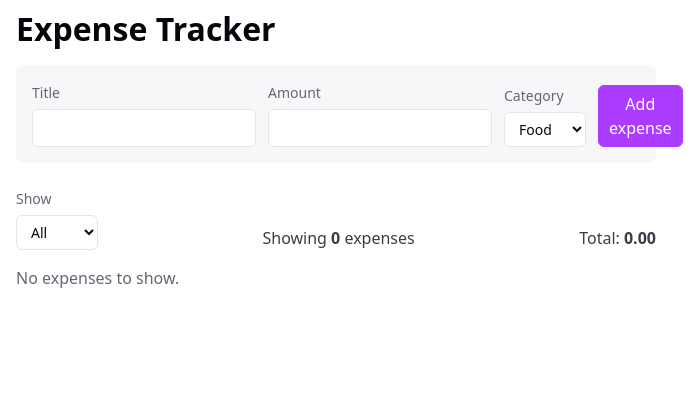
App › lists added expenses with a count and a 2-decimal total
The image size is (700, 397).
Type "Lunch" into the field labelled "Title" at (144,128), box [32,109,256,147]
Type "250" into the field labelled "Amount" at (380,128), box [268,109,492,147]
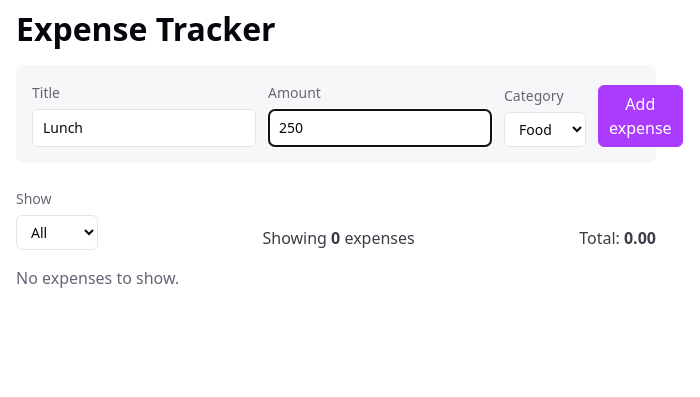
Select "Food" in the dropdown labelled "Category" at (545,130), box [504,112,586,147]
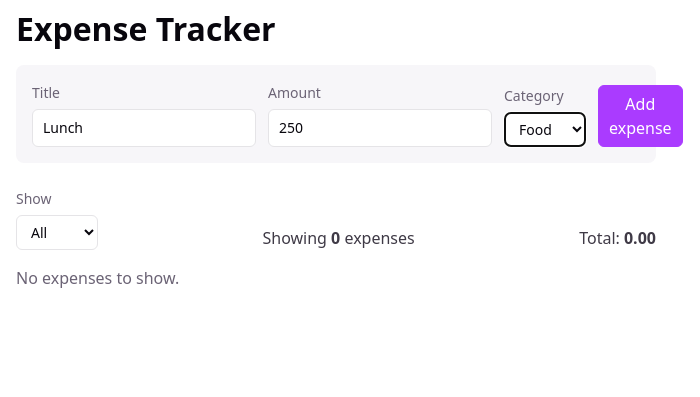
Click the button "Add expense" at (640,116), box [598,85,683,147]
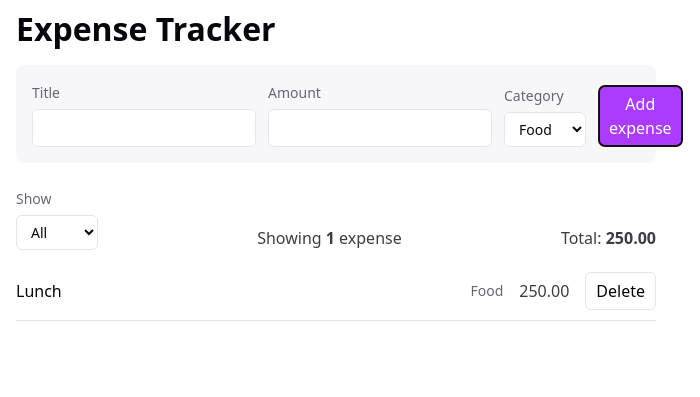
Type "Cab" into the field labelled "Title" at (144,128), box [32,109,256,147]
Type "400.5" into the field labelled "Amount" at (380,128), box [268,109,492,147]
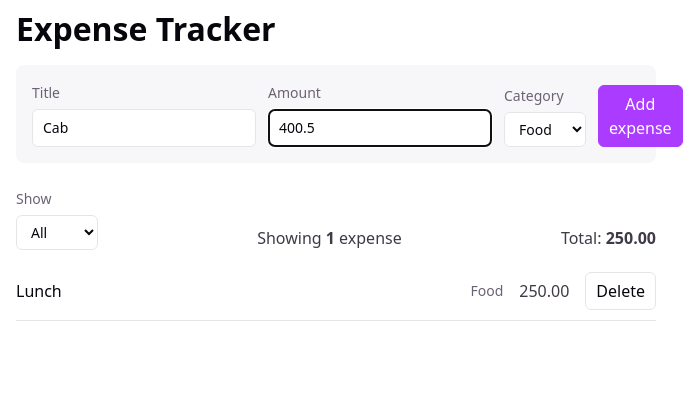
Select "Travel" in the dropdown labelled "Category" at (545,130), box [504,112,586,147]
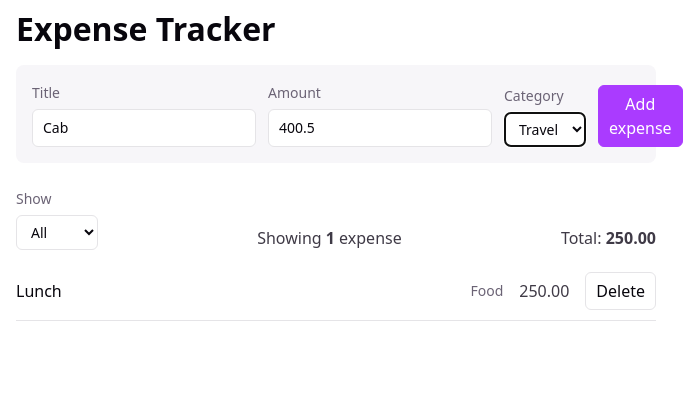
Click the button "Add expense" at (640,116), box [598,85,683,147]
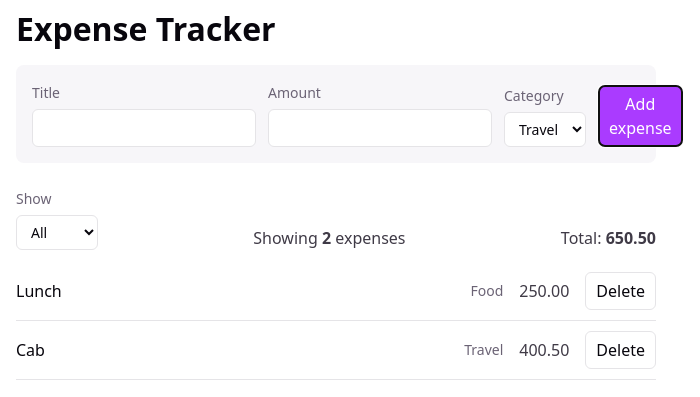
Check: the text "Lunch" is shown, box [16,280,62,302]
Check: the number of list items is 2, box [16,262,656,321]; [16,321,656,380]
Check: the text "400.50" is shown, box [519,338,569,362]
